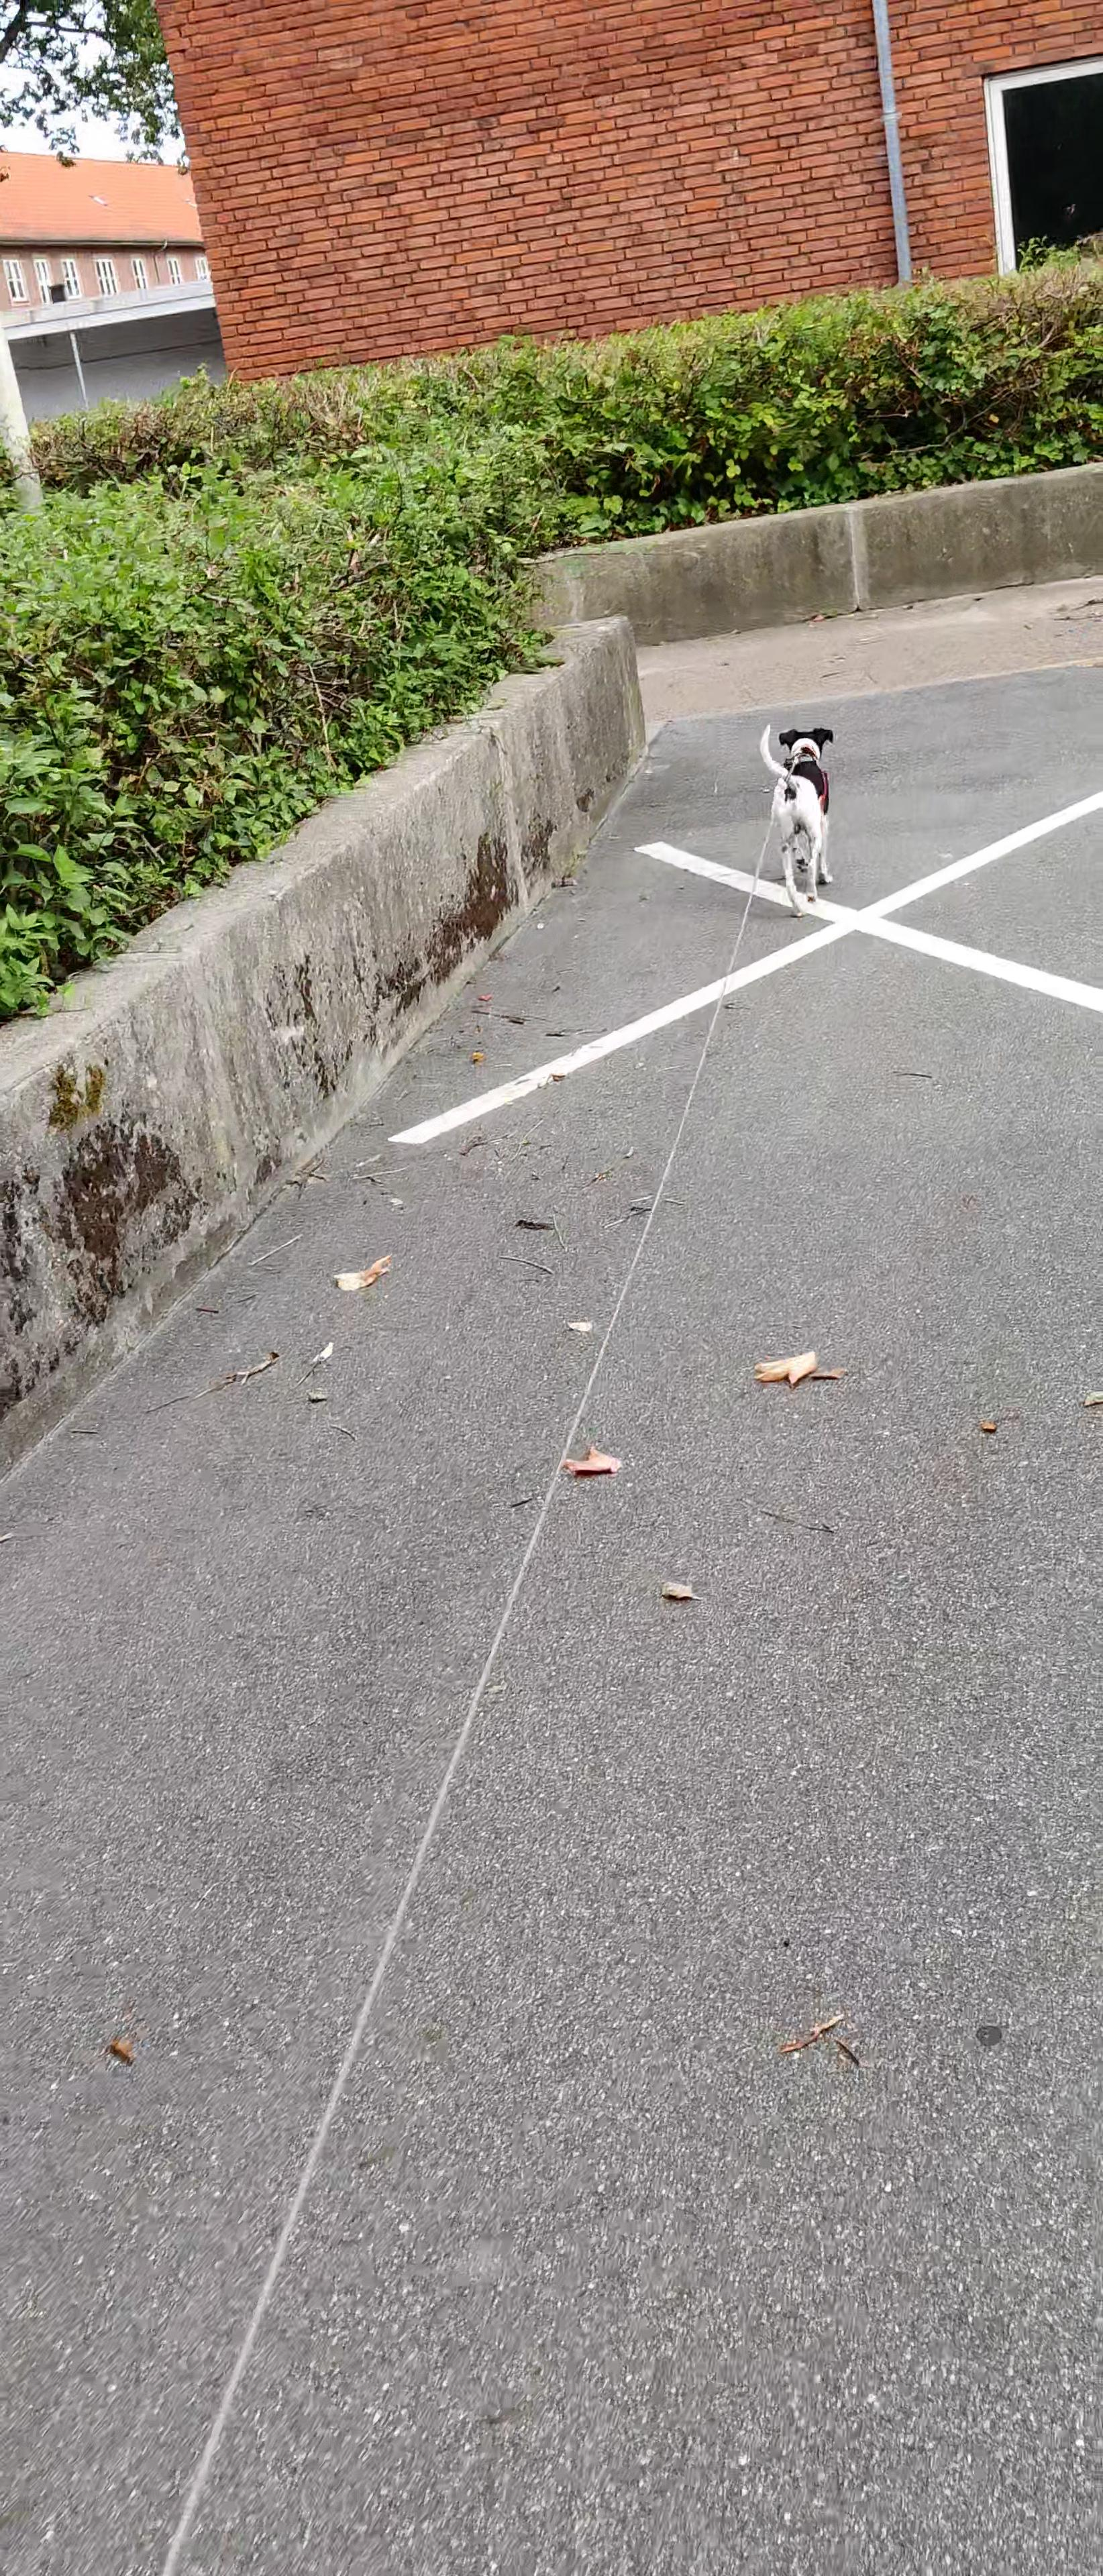Dog: (756, 711, 848, 922)
